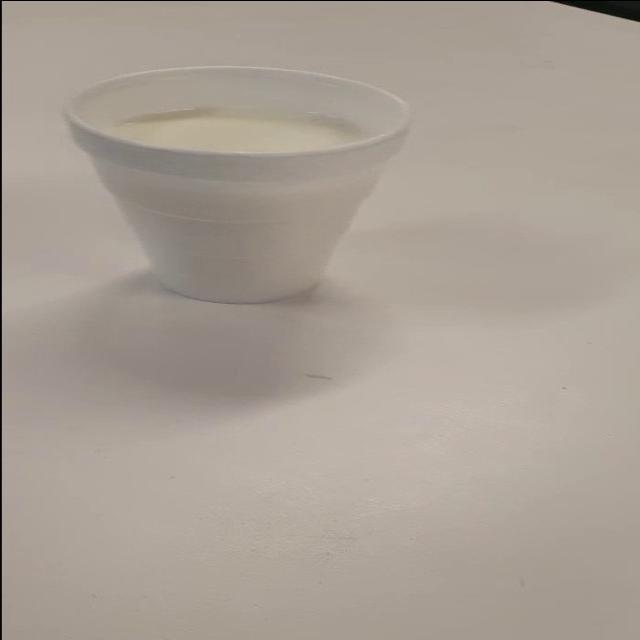Milk: (37, 40, 475, 300)
